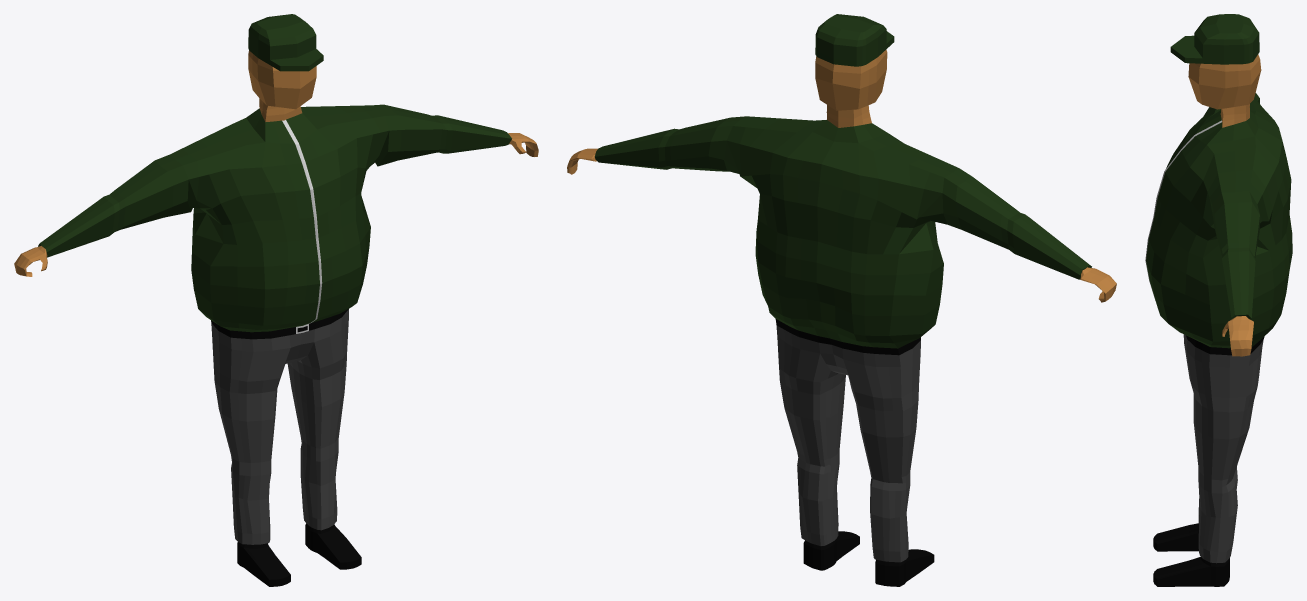
Rendered from Guard.fbx.
3 views of the same model, side by side, from view 1: azimuth 30°, elevation 25°; view 2: azimuth 150°, elevation 25°; view 3: azimuth 270°, elevation 25° (orthographic). The views are drawn at different scales.
Visible parts, largest first — view 1: Guard; view 2: Guard; view 3: Guard.
Part boxes in pixels (x1=…): Guard: x1=14, y1=14, x2=538, y2=586; Guard: x1=567, y1=14, x2=1116, y2=586; Guard: x1=1145, y1=14, x2=1292, y2=586.
Bounding box in the file's own units: 188 × 183 × 45.3.
